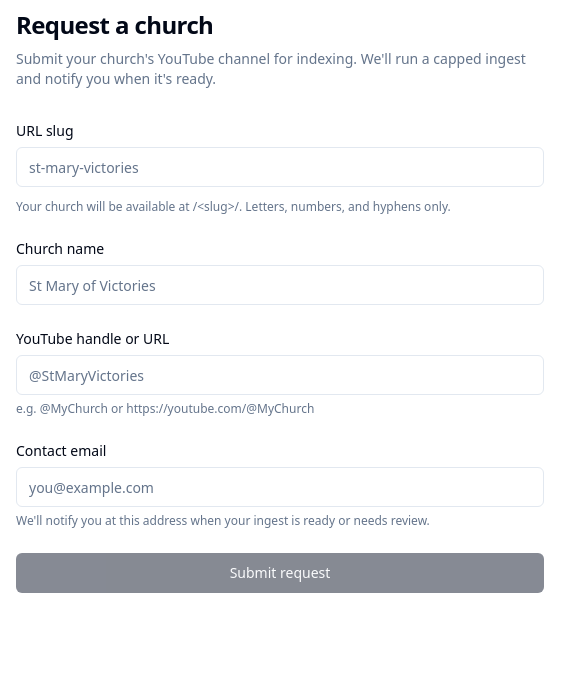
IngestPage › channel preflight callouts › channel_unavailable — shows admin-attention note and disables submit
The width and height of the screenshot is (561, 680).
Type "@TestChannel" into the field labelled "YouTube handle or URL" at [280, 375], box [16,355,544,395]
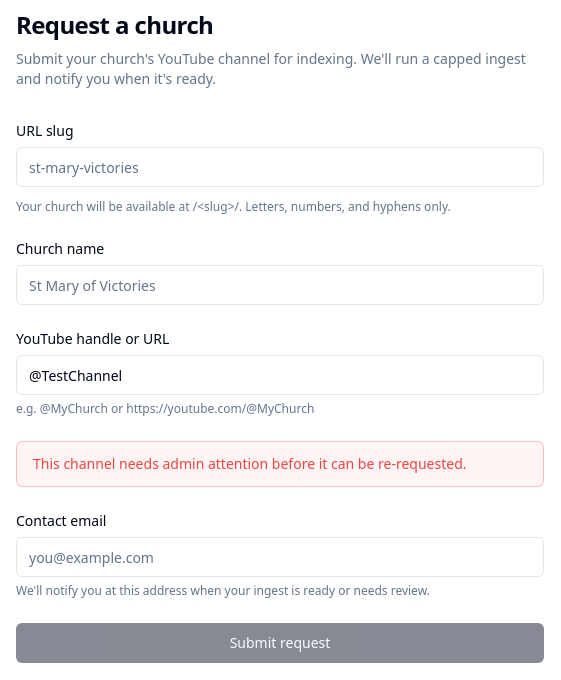
Check: the button "Submit request" is disabled, box [16,623,544,663]
Check: the text "admin attention" is shown, box [33,454,466,473]
